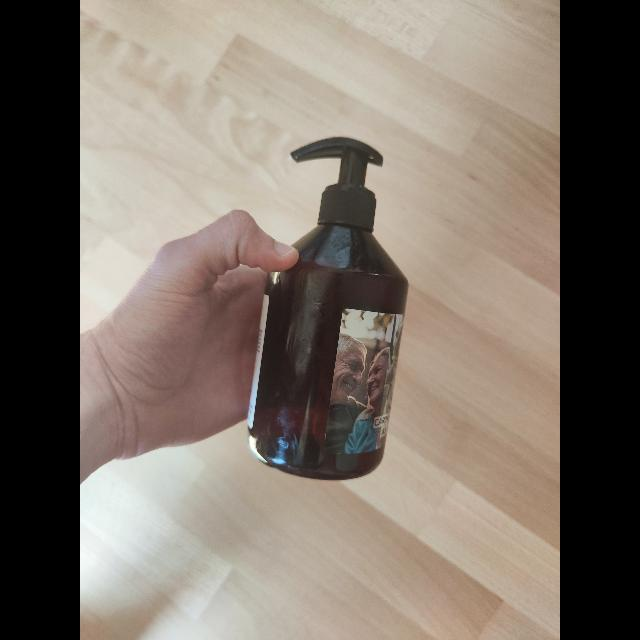Plastic: (252, 133, 408, 493)
